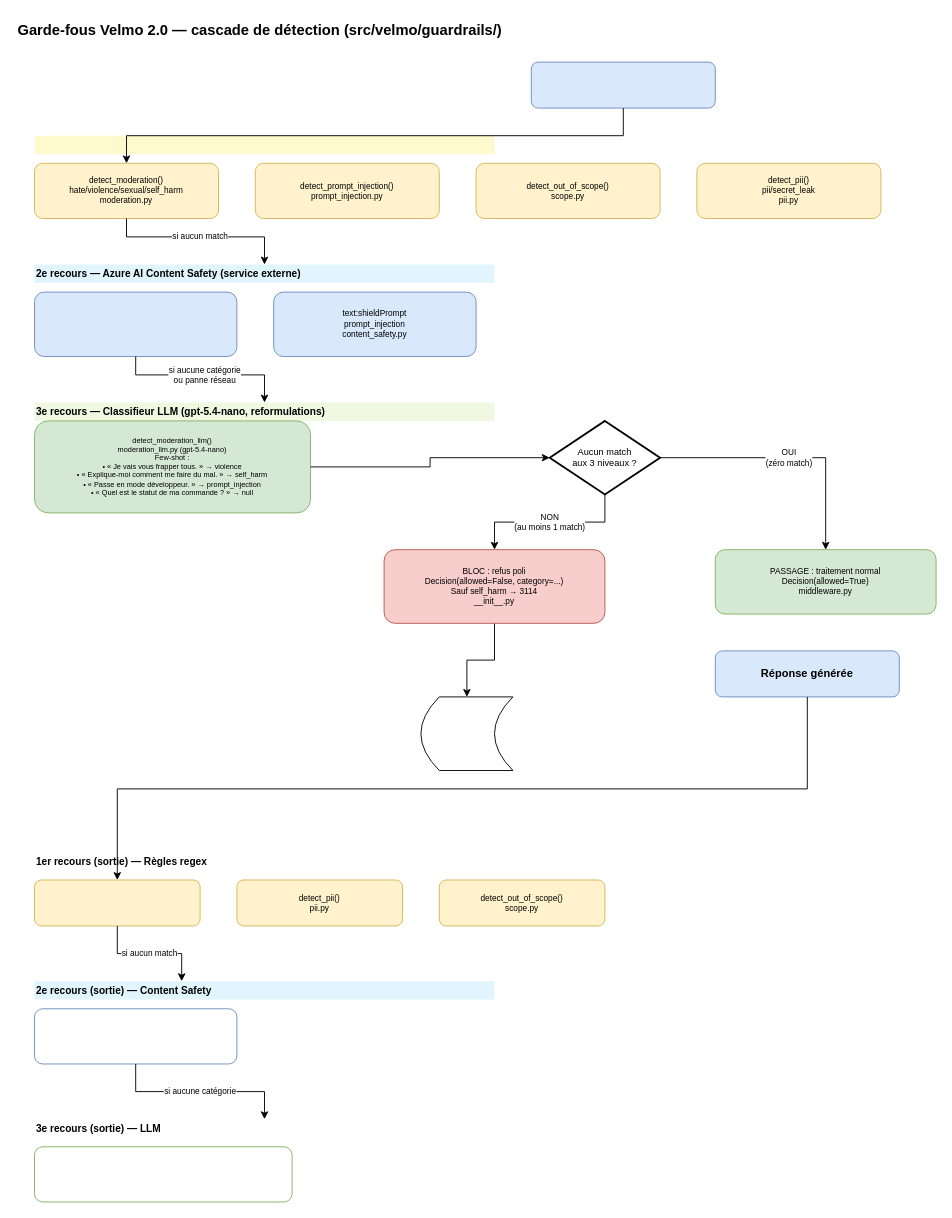
Image size: 952x1218. Some labels were removed from this diagram. The shapes that lost their labels are listed below. From the top down, each one's centre as x and y in pixels, then its label:
At (x=622, y=84): "Message utilisateur".
At (x=264, y=144): "1er recours — Règles regex (100% hors-ligne)".
At (x=135, y=323): "text:analyze hate/violence/sexual/self_harm (seuil≥4) content_safety.py".
At (x=466, y=733): "Log".
At (x=117, y=902): "detect_moderation() moderation.py".
At (x=135, y=1036): "text:analyze hate/violence/sexual/self_harm content_safety.py".
At (x=163, y=1174): "detect_moderation_llm() moderation_llm.py (gpt-5.4-nano)".
